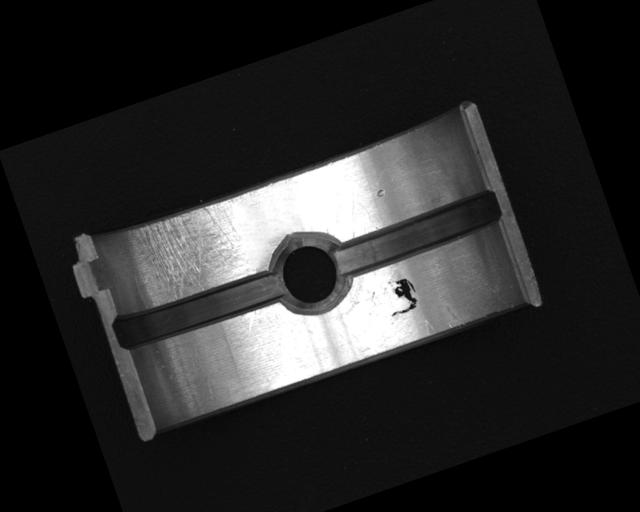blot: (377, 271, 424, 320)
bruise: (375, 187, 387, 198)
gap: (327, 184, 508, 282), (108, 264, 287, 355)
hole: (257, 221, 358, 325)
nick: (241, 309, 262, 332)
scratch: (114, 193, 260, 314)
